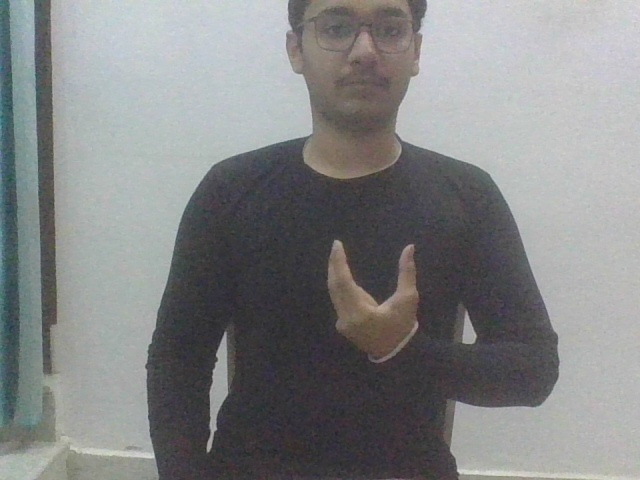U: (324, 238, 423, 364)
